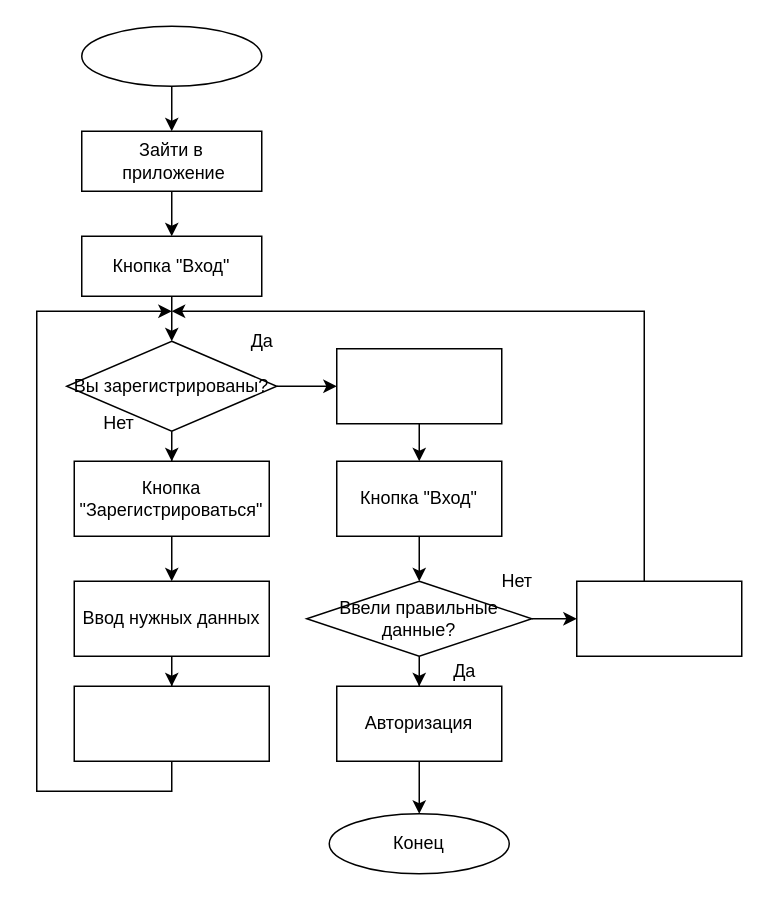
Image size: 768x900. Some labels were removed from this diagram. Here are the shapes that lost their labels. From the top down, the centre of each, then its label:
the point at 171,55: Начало
the point at 418,385: Ввод логина и пароля
the point at 658,618: Сообщение "Неправильный ввод данных"
the point at 171,723: Кнопка "Регистрации"
